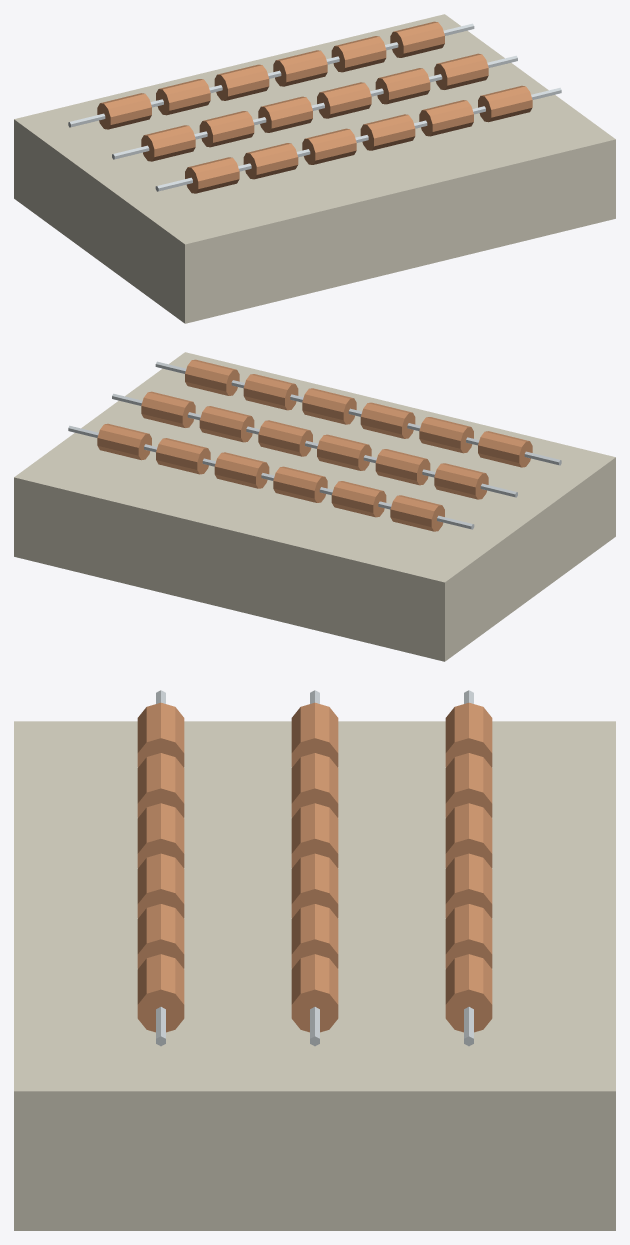
Rendered from product-27.glb.
3 renders of one model, top to bottom at view 1: azimuth 30°, elevation 25°; view 2: azimuth 150°, elevation 25°; view 3: azimuth 270°, elevation 25°, orthographic. The views are drawn at different scales.
Visible parts, largest first — view 1: product-27; view 2: product-27; view 3: product-27.
Boxes of the visible parts, x1,y1,x2,y2 form: product-27: [14, 14, 615, 323]; product-27: [14, 352, 615, 661]; product-27: [14, 690, 615, 1230].
Bounding box in the file's own units: 1.25 × 0.315 × 0.86.
